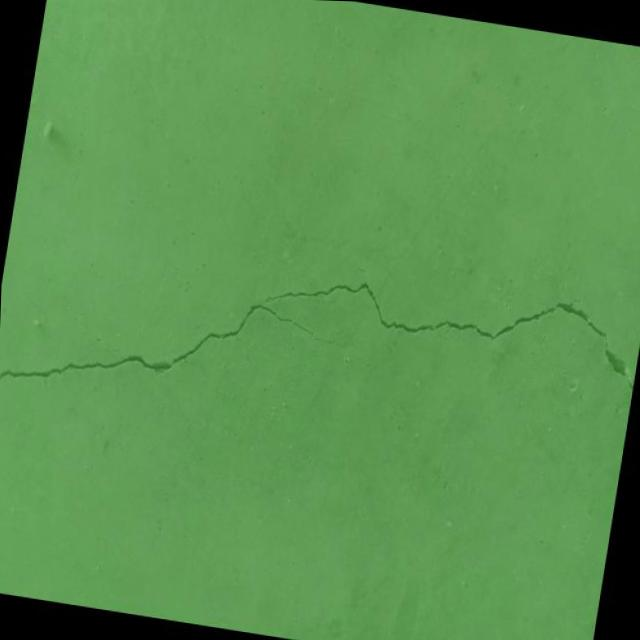crack: (0, 178, 640, 486), (558, 103, 608, 264), (616, 44, 640, 101)
